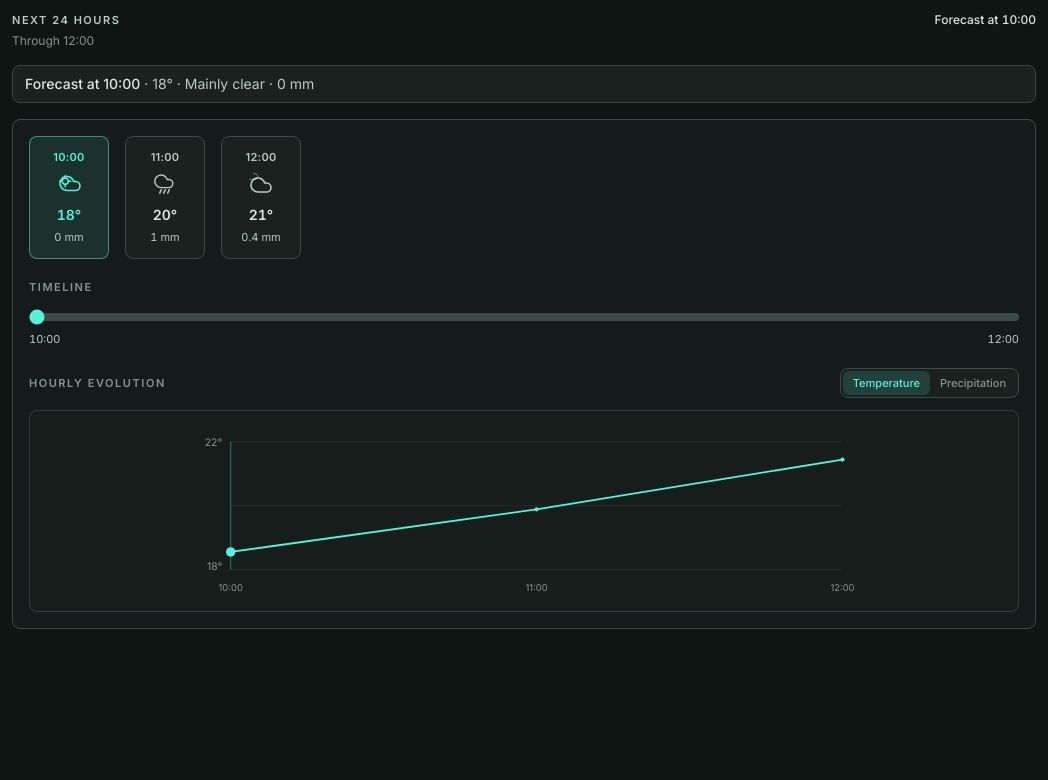
HourlyExploration › does not label a fallback first hour as Now
Click the button with aria-label "Slight rain". click: (165, 197)
box: top-left (125, 136), bottom-right (205, 258)
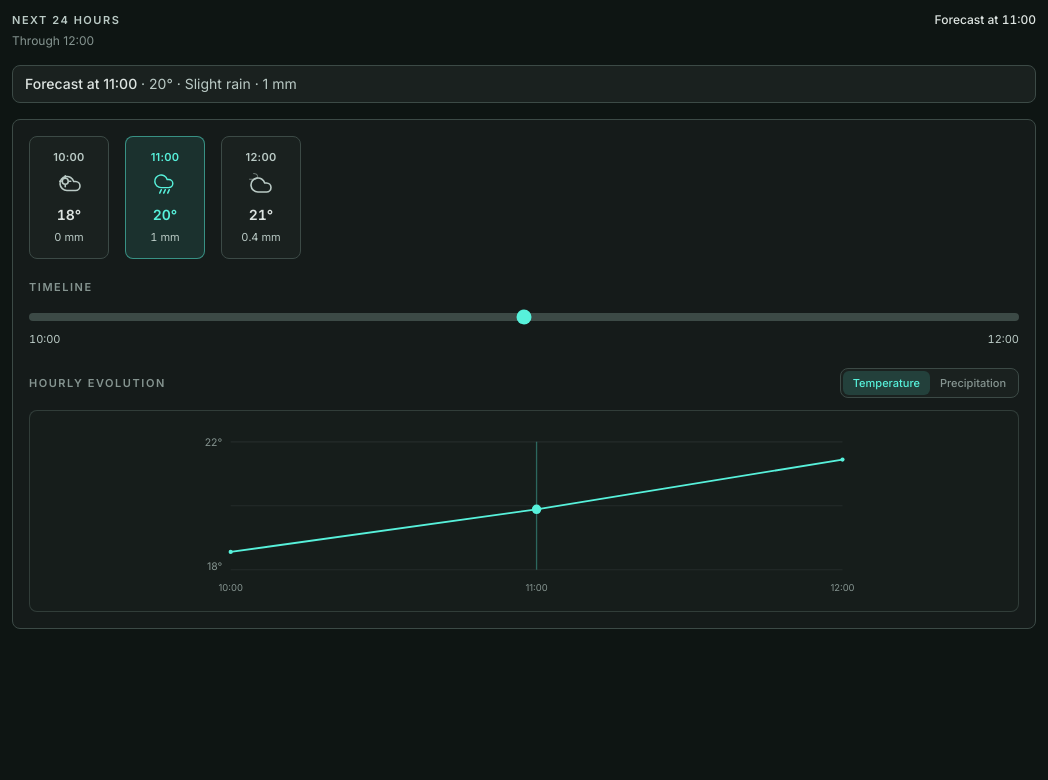
Check: the message shows "Forecast at 11:00", box top-left (25, 74), bottom-right (137, 92)
